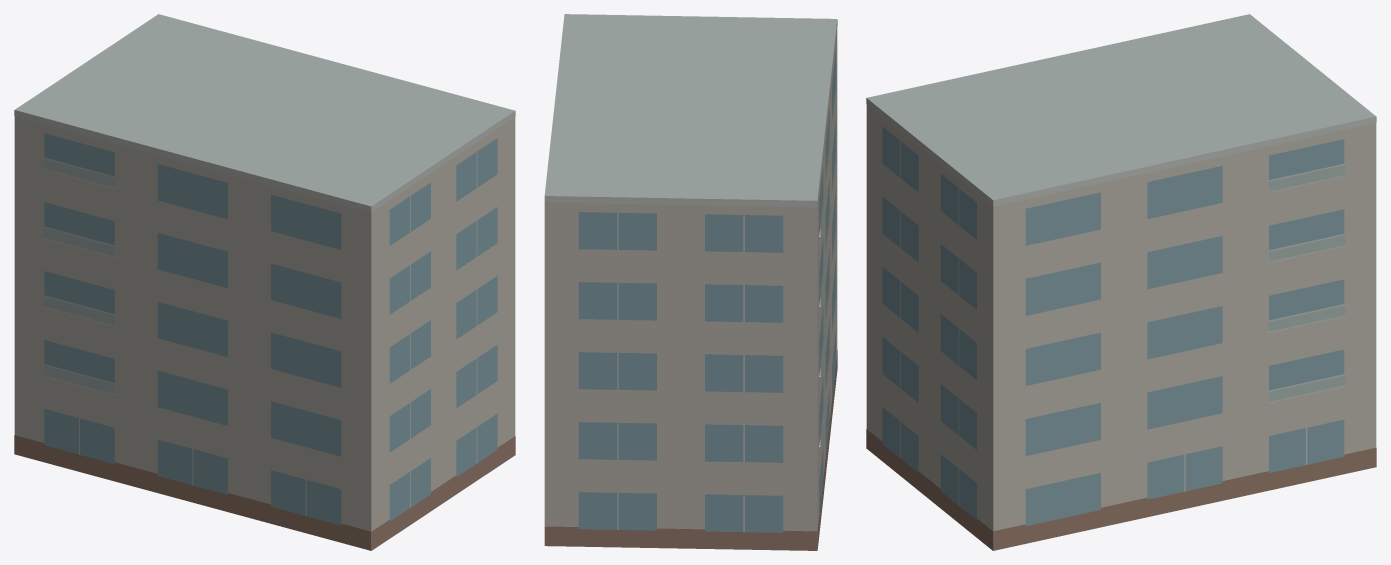
File: survey-upis-32832265.glb
3 renders of one model, left to right at view 1: azimuth 30°, elevation 25°; view 2: azimuth 150°, elevation 25°; view 3: azimuth 270°, elevation 25°, orthographic.
Visible parts, largest first — view 1: survey-upis-32832265.tmp; view 2: survey-upis-32832265.tmp; view 3: survey-upis-32832265.tmp.
Boxes of the visible parts, <box> form: survey-upis-32832265.tmp: <box>14,14,515,550</box>; survey-upis-32832265.tmp: <box>544,14,837,550</box>; survey-upis-32832265.tmp: <box>866,14,1376,550</box>.
Bounding box in the file's own units: 15.05 × 13.2 × 17.41.
